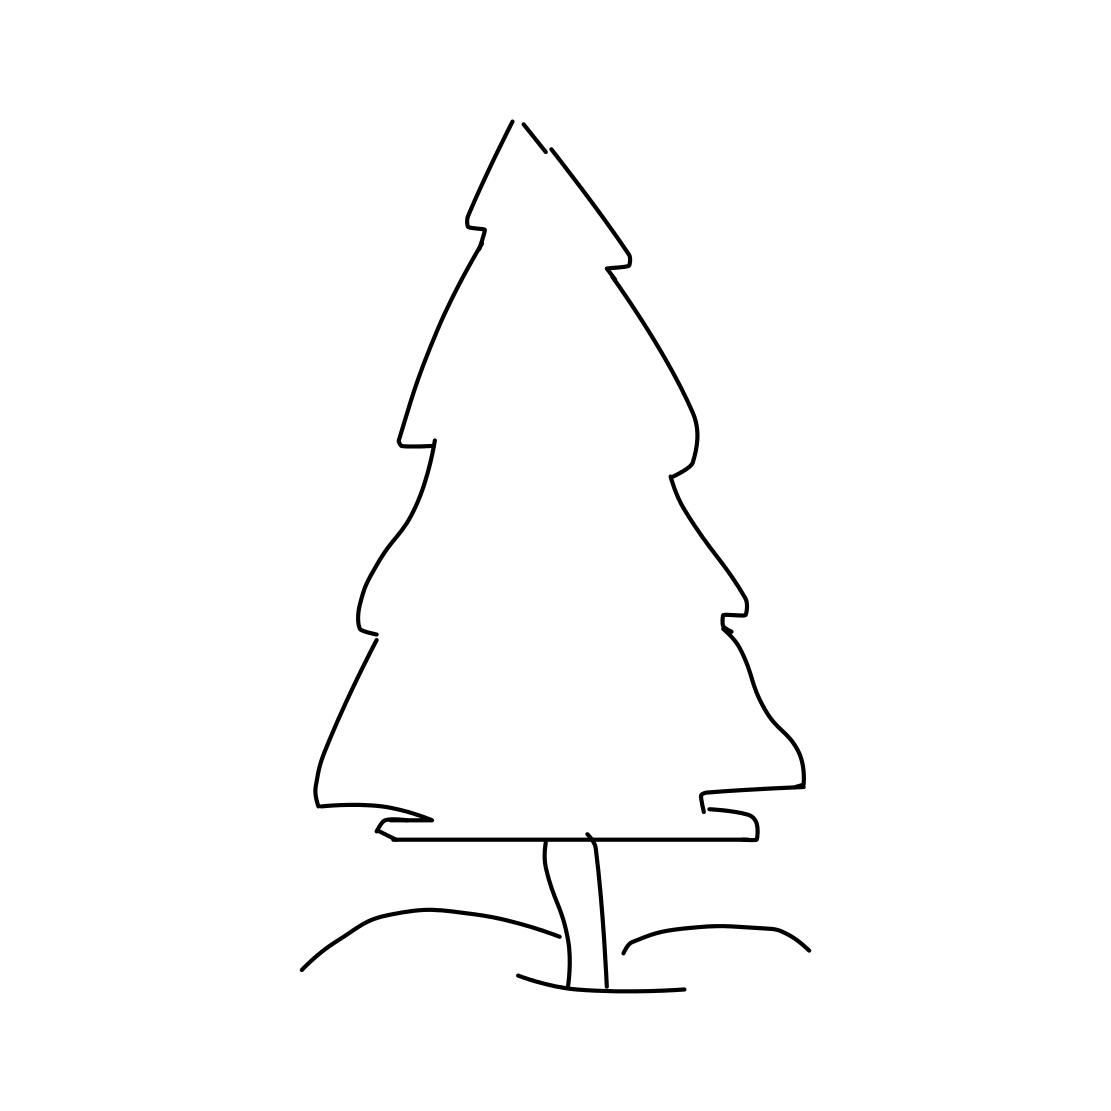Tree: (303, 91, 834, 1022)
